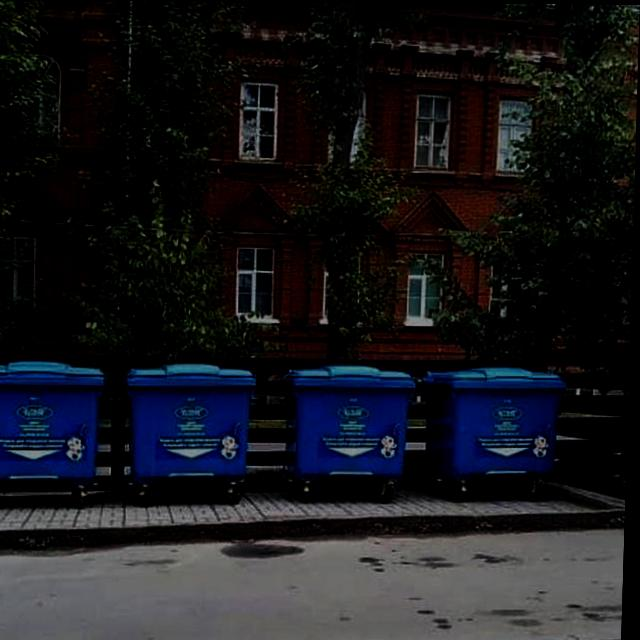Trash_Can_Closed: (423, 364, 570, 482), (124, 361, 259, 484), (284, 363, 418, 482), (0, 359, 107, 490)
